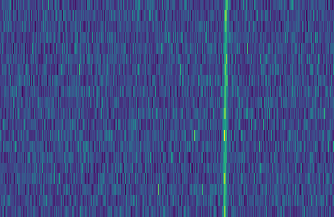signal: (220, 0, 231, 217)
